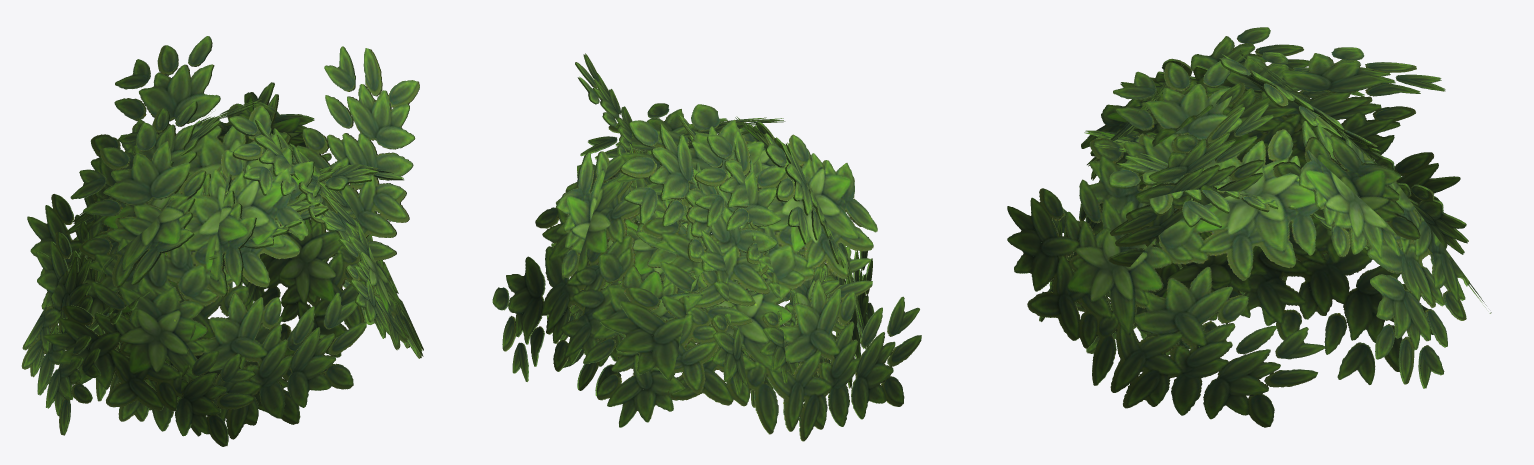
The model's file is Matorral.fbx.
The picture shows the model from 3 angles, left to right: view 1: azimuth 30°, elevation 25°; view 2: azimuth 150°, elevation 25°; view 3: azimuth 270°, elevation 25°; orthographic projection. The views are drawn at different scales.
Visible parts, largest first — view 1: Matorral; view 2: Matorral; view 3: Matorral.
Part boxes in pixels (bbox=[...]): Matorral: bbox=[21, 36, 423, 446]; Matorral: bbox=[492, 53, 921, 441]; Matorral: bbox=[1007, 27, 1491, 427].
Size of the model in its own units: 1217 by 1086 by 1389.
